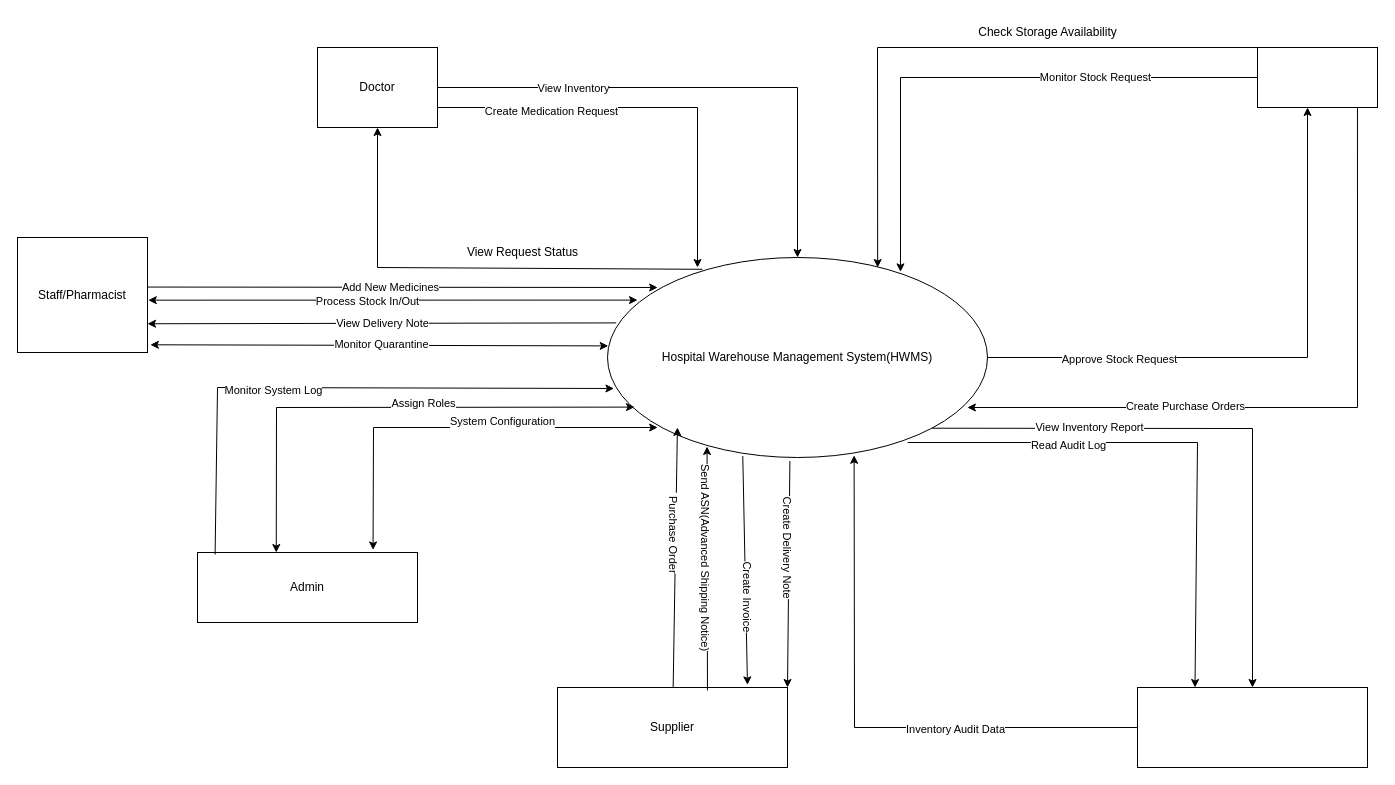
Image size: 1395x785. Some labels were removed from this diagram. The shapes that lost their labels are listed below. From the top down, each one's centre as x and y in pixels, then its label:
At (x=1317, y=77): "Warehouse Manager".
At (x=1252, y=727): "Auditor".
